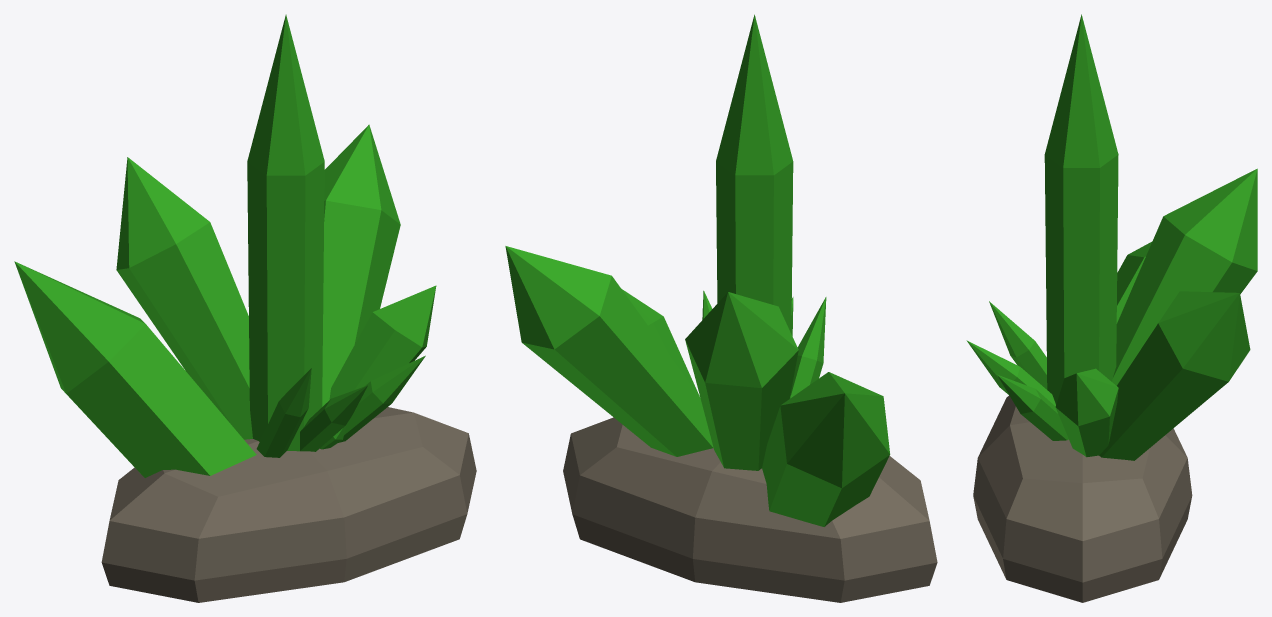
File: Cristal 2.fbx
3 views of the same model, side by side, from view 1: azimuth 30°, elevation 25°; view 2: azimuth 150°, elevation 25°; view 3: azimuth 270°, elevation 25° (orthographic). The views are drawn at different scales.
Visible parts, largest first — view 1: Cube.001; view 2: Cube.001; view 3: Cube.001.
Part boxes in pixels (<box>): Cube.001: <box>14,14,476,602</box>; Cube.001: <box>505,14,937,602</box>; Cube.001: <box>966,14,1257,602</box>.
Bounding box in the file's own units: 31.68 × 43.89 × 22.39.
